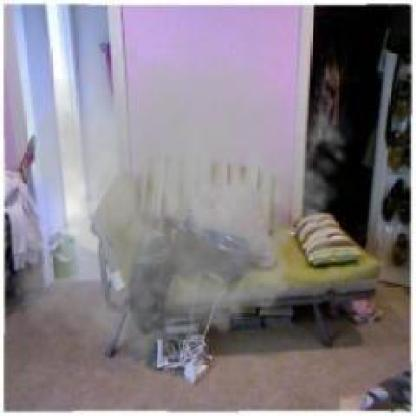Smoke: (7, 15, 359, 375)
